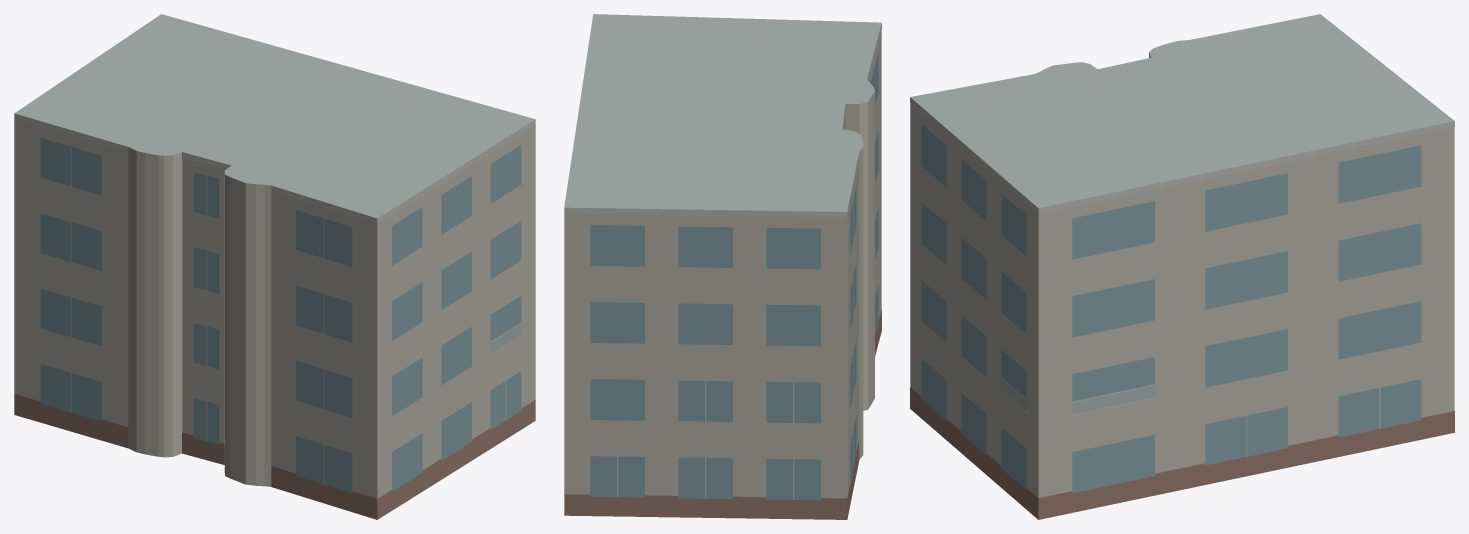
The model's file is survey-upis-32730269.glb.
The picture shows the model from 3 angles, left to right: view 1: azimuth 30°, elevation 25°; view 2: azimuth 150°, elevation 25°; view 3: azimuth 270°, elevation 25°; orthographic projection. The views are drawn at different scales.
Parts seen in each view (by area): view 1: survey-upis-32730269.tmp; view 2: survey-upis-32730269.tmp; view 3: survey-upis-32730269.tmp.
Part boxes in pixels (x1,y1,x2,y2): survey-upis-32730269.tmp: [14, 14, 535, 519]; survey-upis-32730269.tmp: [564, 14, 881, 519]; survey-upis-32730269.tmp: [910, 14, 1454, 519].
Bounding box in the file's own units: 17.12 × 12.8 × 20.28.
